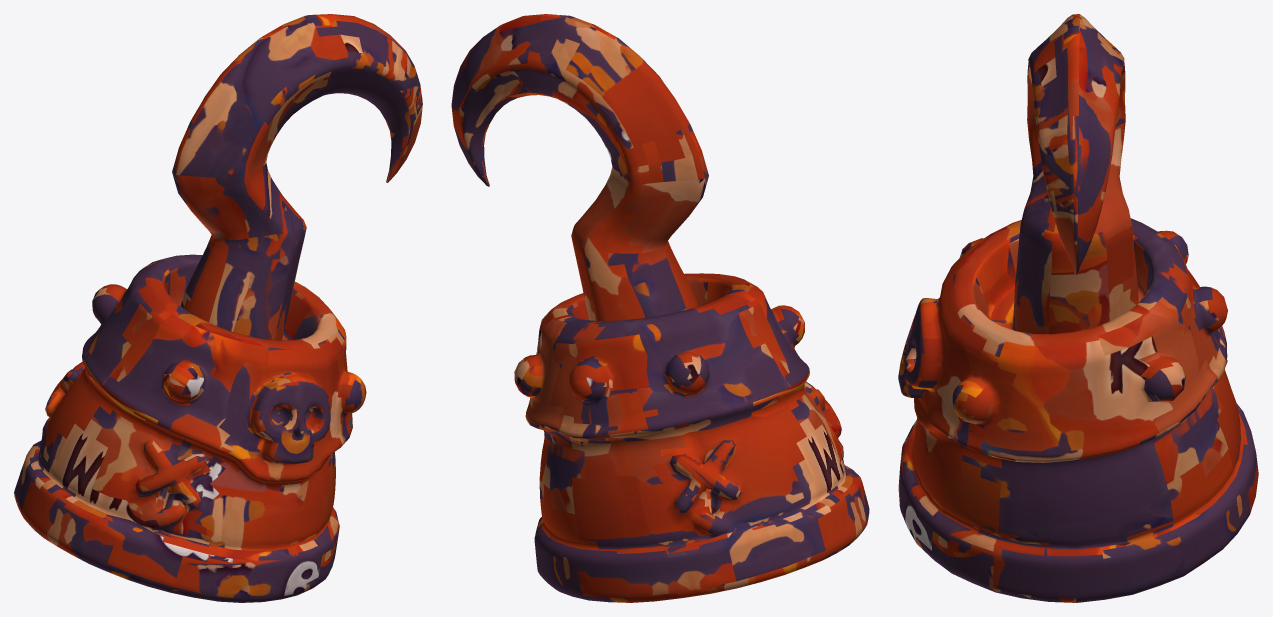
The model's file is garfio.fbx.
The picture shows the model from 3 angles, left to right: view 1: azimuth 30°, elevation 25°; view 2: azimuth 150°, elevation 25°; view 3: azimuth 270°, elevation 25°; orthographic projection. The views are drawn at different scales.
Visible parts, largest first — view 1: tripo_node_ca37105f; view 2: tripo_node_ca37105f; view 3: tripo_node_ca37105f.
Part boxes in pixels (x1=…): tripo_node_ca37105f: x1=14, y1=14, x2=422, y2=602; tripo_node_ca37105f: x1=451, y1=14, x2=869, y2=602; tripo_node_ca37105f: x1=898, y1=14, x2=1258, y2=602.
Size of the model in its own units: 0.7572 by 0.9761 by 0.5528.
